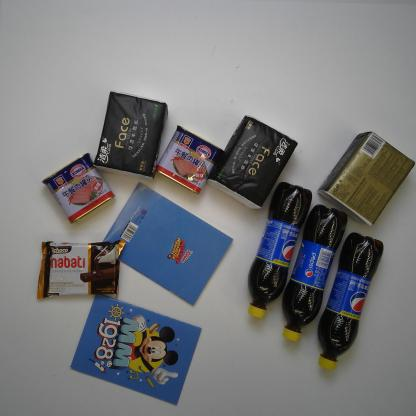Canned Food: (40, 152, 115, 226), (152, 124, 225, 194)
Dessert: (36, 239, 127, 297)
Drink: (315, 233, 384, 370), (282, 204, 348, 342), (247, 181, 313, 318)
Stationery: (102, 181, 235, 306), (69, 291, 202, 406)
Tissue: (317, 131, 415, 226), (206, 114, 298, 210), (94, 87, 170, 182)
